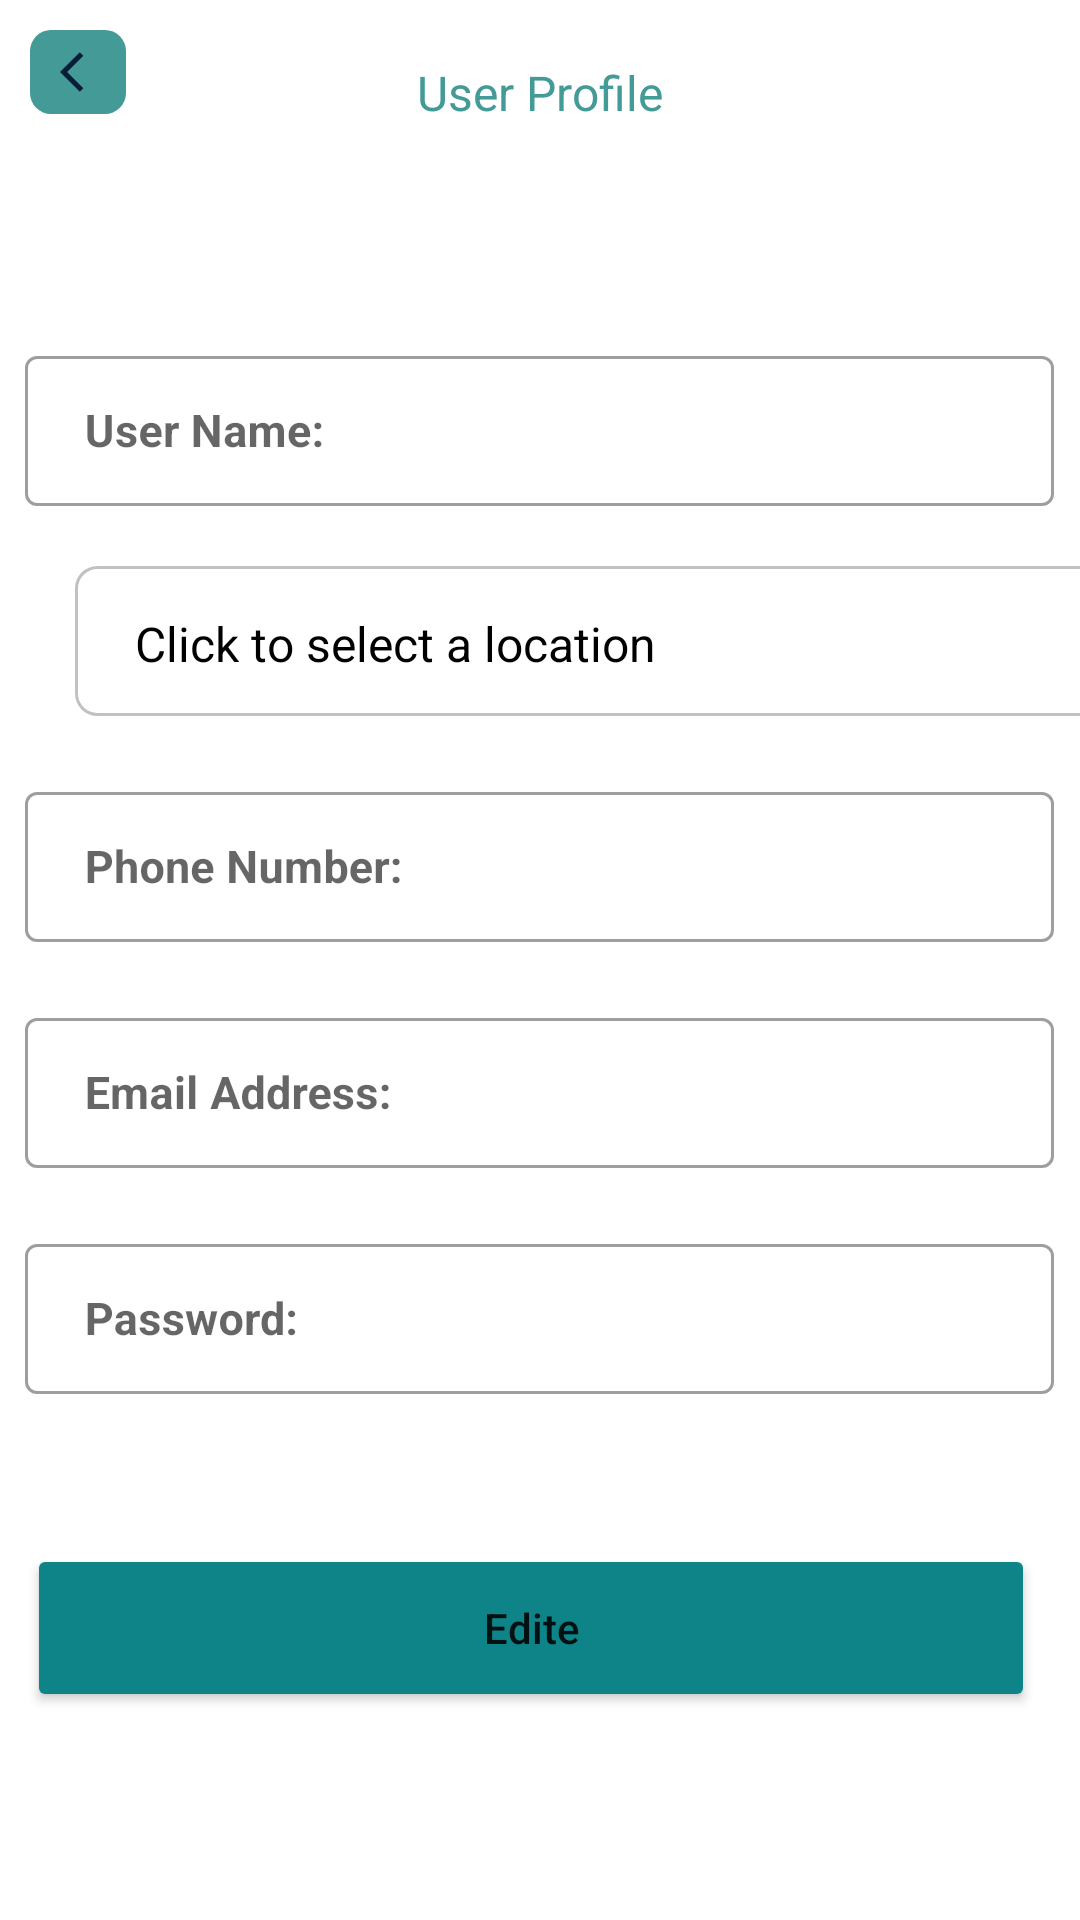

Screen size 1080w x 1920h. Icon name, then its center in pixels as (x=x, y=y):
arrow back: (x=71, y=72)
